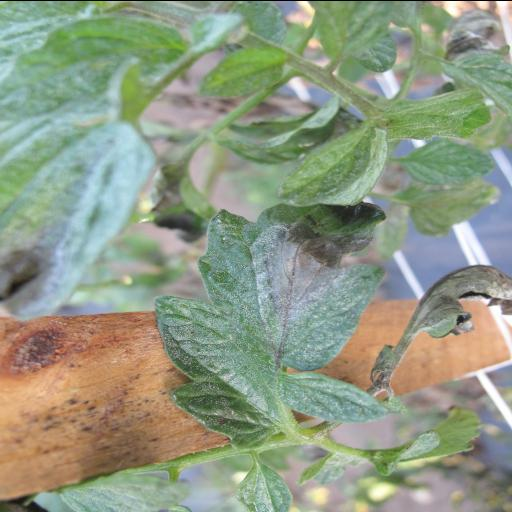Late Blight: (149, 168, 417, 466)
